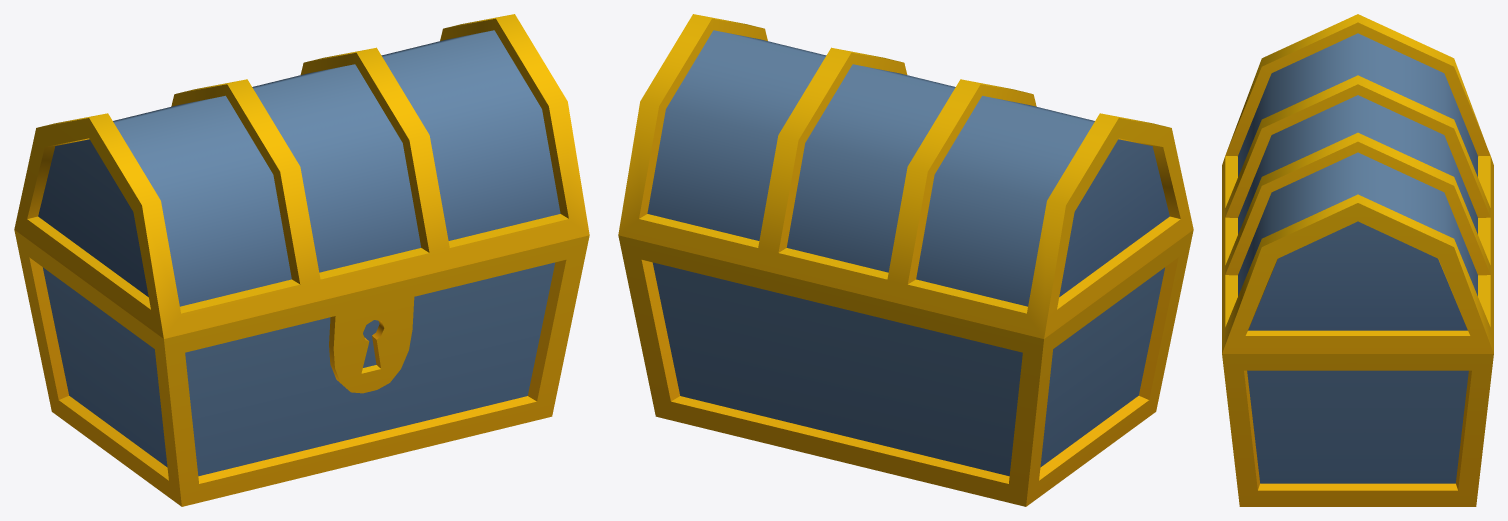
Rendered from Chest.fbx.
3 renders of one model, left to right at view 1: azimuth 30°, elevation 25°; view 2: azimuth 150°, elevation 25°; view 3: azimuth 270°, elevation 25°, orthographic. The views are drawn at different scales.
Parts seen in each view (by area): view 1: Chest_Cup, Chest_base; view 2: Chest_Cup, Chest_base; view 3: Chest_Cup, Chest_base.
Boxes of the visible parts, x1,y1,x2,y2 form: Chest_Cup: (14, 14, 589, 338); Chest_base: (14, 230, 589, 506); Chest_Cup: (618, 14, 1193, 338); Chest_base: (618, 230, 1193, 506); Chest_Cup: (1222, 14, 1493, 353); Chest_base: (1222, 354, 1493, 506).
Bounding box in the file's own units: 8.97 × 7.01 × 5.46.
